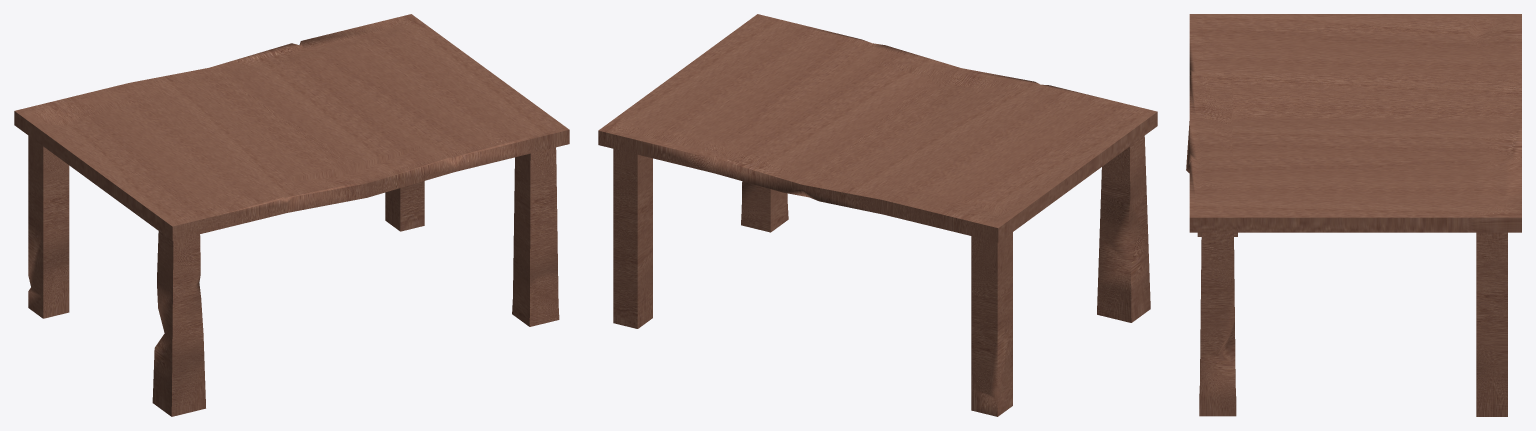
Rendered from Workbench.fbx.
3 views of the same model, side by side, from view 1: azimuth 30°, elevation 25°; view 2: azimuth 150°, elevation 25°; view 3: azimuth 270°, elevation 25° (orthographic). The views are drawn at different scales.
Visible parts, largest first — view 1: Damaged_Table; view 2: Damaged_Table; view 3: Damaged_Table.
Part boxes in pixels (box(x1,y1,x2,y2)): Damaged_Table: box(14, 14, 569, 416); Damaged_Table: box(598, 14, 1157, 416); Damaged_Table: box(1186, 14, 1521, 416).
Bounding box in the file's own units: 19.46 × 9.08 × 13.56.
Materials: 1 (1 with a texture image).
